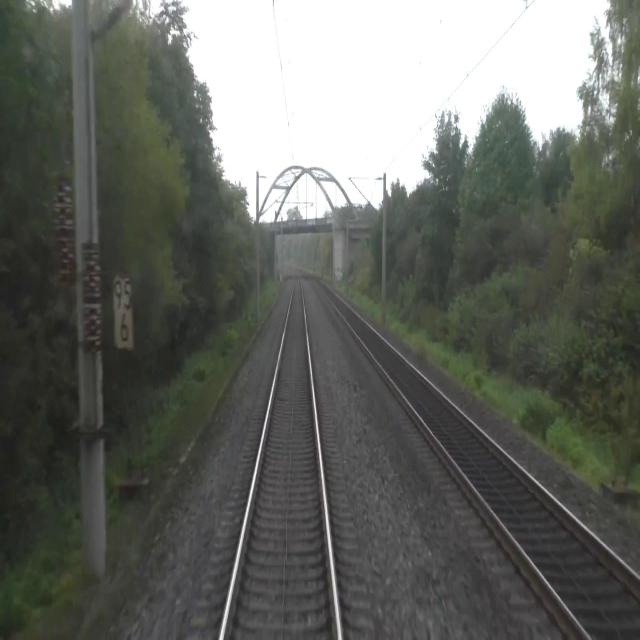rail-track: (315, 277, 640, 639), (222, 271, 337, 639)
